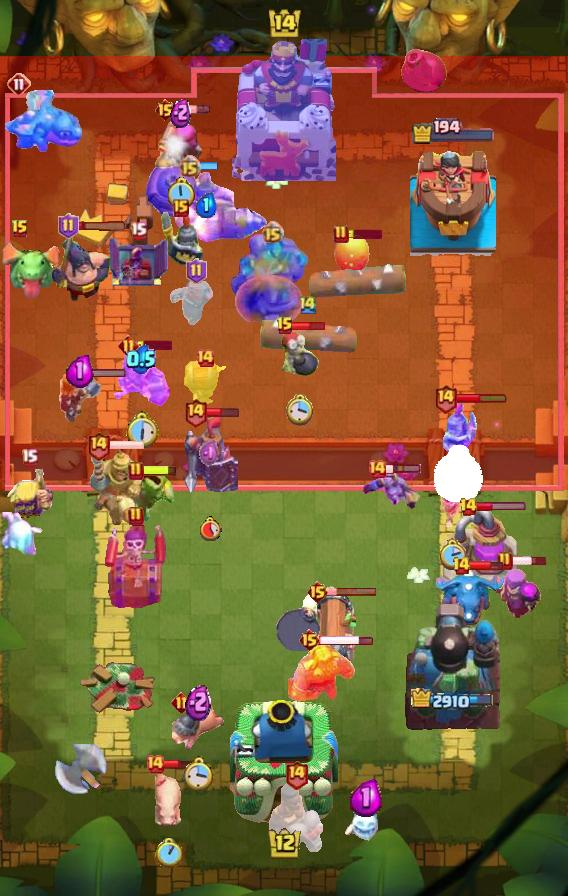axe: (55, 744, 115, 804)
bar: (319, 634, 374, 647), (455, 392, 508, 404), (326, 586, 378, 597), (76, 221, 128, 232), (476, 501, 527, 512), (76, 368, 127, 379), (468, 559, 504, 572), (142, 464, 178, 477), (511, 555, 548, 567), (385, 463, 422, 475), (108, 439, 145, 451), (205, 406, 240, 418), (292, 320, 327, 332), (174, 104, 211, 115), (163, 759, 199, 770), (136, 340, 172, 350), (346, 229, 382, 239), (199, 161, 218, 172)
bar-level: (284, 759, 309, 790), (86, 430, 111, 461), (183, 397, 208, 428), (433, 383, 458, 414), (7, 72, 31, 96), (298, 628, 321, 652), (306, 580, 329, 604), (154, 98, 177, 122), (186, 258, 207, 284), (58, 213, 79, 239), (261, 221, 284, 244), (178, 155, 201, 178), (171, 692, 192, 713), (118, 335, 139, 356), (298, 294, 318, 315), (145, 754, 165, 774), (367, 459, 387, 479), (195, 348, 215, 368), (452, 556, 471, 576), (459, 497, 478, 517), (276, 316, 294, 336), (11, 219, 29, 239), (21, 448, 38, 467), (130, 221, 147, 240), (497, 551, 513, 571), (128, 506, 144, 526), (128, 461, 144, 481), (333, 224, 349, 244), (173, 199, 189, 217)
barbarian-evolution: (5, 469, 53, 520)
bomb: (275, 589, 327, 651), (398, 44, 450, 98)
bomber: (279, 331, 321, 381)
cannoneer-tower: (403, 601, 503, 731)
clock: (434, 445, 483, 502), (124, 411, 159, 449), (183, 756, 214, 791), (166, 177, 195, 211), (286, 394, 314, 427), (438, 538, 466, 570), (155, 838, 182, 868), (198, 516, 222, 541)
electro-dragon: (0, 90, 84, 154), (436, 566, 508, 628)
elixir: (350, 779, 382, 817), (185, 683, 211, 721), (66, 353, 94, 388), (126, 344, 156, 374), (170, 97, 191, 128), (199, 439, 221, 467), (195, 192, 217, 218)
executioner: (51, 226, 113, 304)
firecracker: (155, 115, 205, 169)
goblin-brawler: (118, 470, 174, 524)
guard: (159, 211, 203, 269), (437, 400, 479, 458)
hog: (151, 768, 185, 830)
ice-spirit: (344, 800, 388, 846), (0, 512, 44, 556)
king-tower: (232, 39, 336, 181), (230, 698, 338, 826)
mini-pekka: (168, 273, 224, 329)
minion: (361, 472, 423, 510)
mother-witch: (491, 566, 547, 628)
phoenix-egg: (332, 232, 372, 276)
queen-tower: (410, 145, 496, 256)
ram-rider: (267, 780, 325, 856)
royal-hog: (172, 703, 224, 753)
skeleton-evolution: (438, 485, 466, 527)
the-log: (258, 317, 358, 355), (308, 262, 408, 300)
tower-bar: (411, 118, 496, 145), (411, 688, 495, 713)
valkyrie: (56, 374, 104, 424)
valkyrie-evolution: (112, 350, 170, 410)
wall-breaker: (179, 359, 231, 405)
